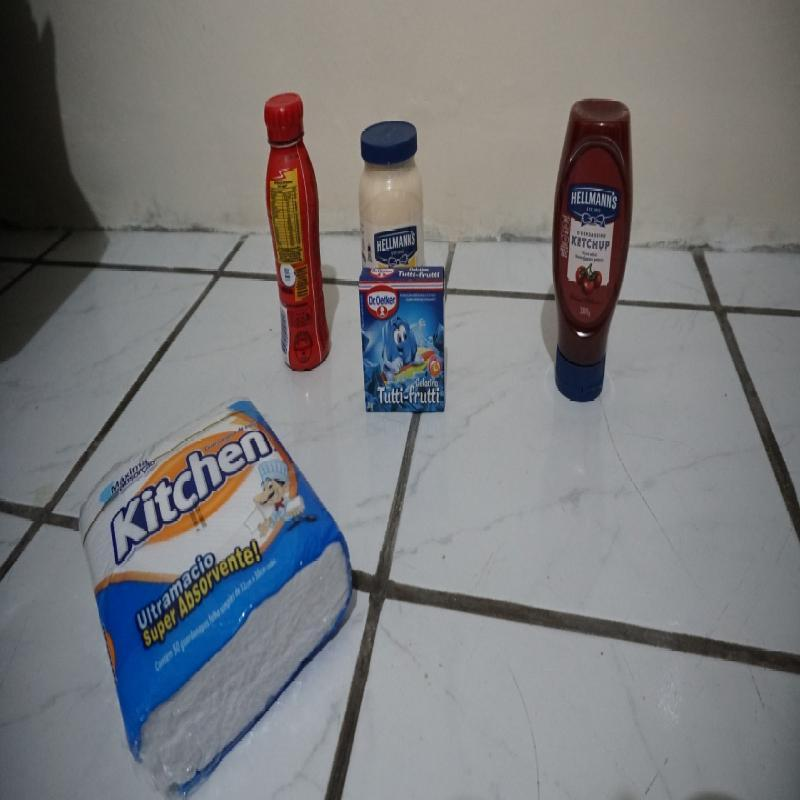Chocolate Milk: (263, 92, 332, 371)
Gelatine: (359, 267, 447, 416)
Ketchup: (552, 100, 632, 402)
Mayonnaise: (360, 118, 424, 266)
Napkin: (79, 398, 355, 794)
